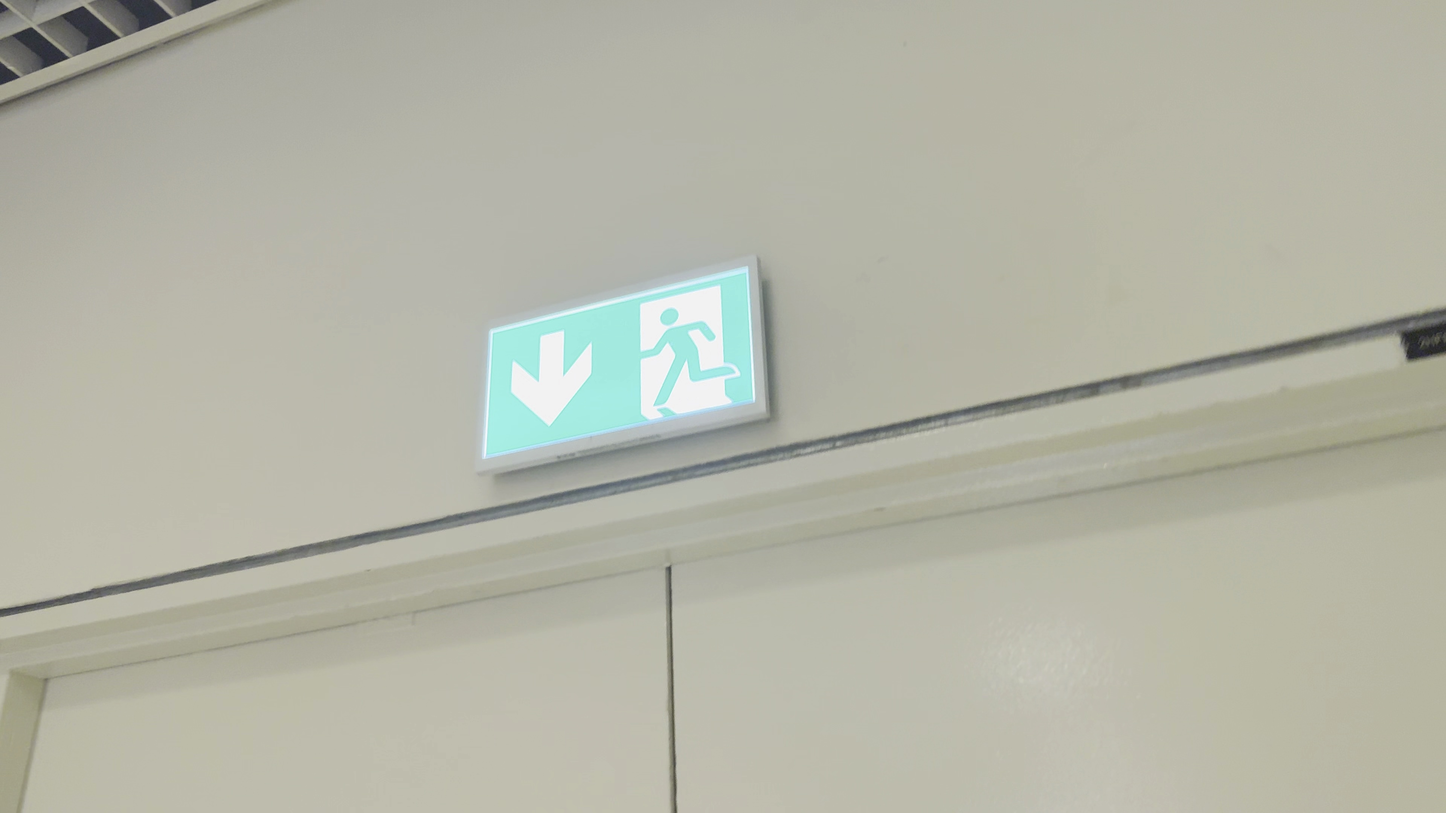emergency_exit: (474, 253, 772, 476)
